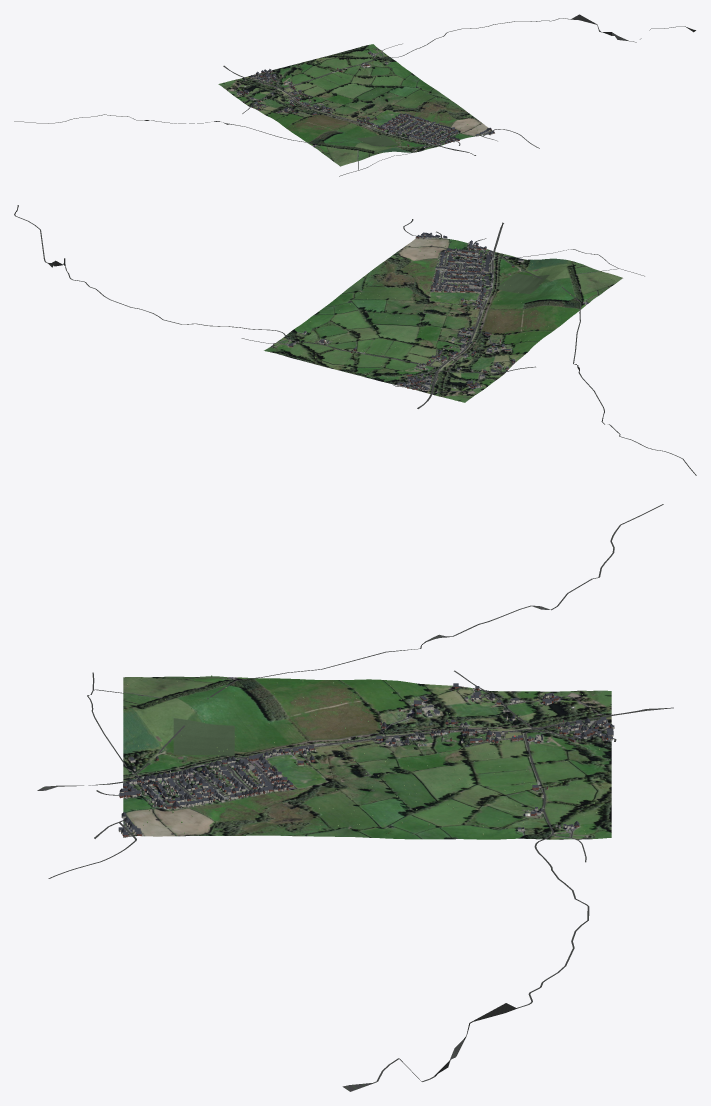
Rendered from howey-terrain.glb.
3 views of the same model, one above another, from view 1: azimuth 30°, elevation 25°; view 2: azimuth 150°, elevation 25°; view 3: azimuth 270°, elevation 25° (orthographic). The views are drawn at different scales.
Parts seen in each view (by area): view 1: Terrain_3D, Roads, Roofs, Buildings_OSM; view 2: Terrain_3D, Roads, Roofs, Buildings_OSM; view 3: Terrain_3D, Roofs, Roads, Buildings_OSM.
Boxes of the visible parts, bbox=[...] form: Terrain_3D: bbox=[218, 44, 494, 166]; Roads: bbox=[14, 14, 695, 176]; Roofs: bbox=[239, 51, 494, 146]; Buildings_OSM: bbox=[237, 53, 494, 151]; Terrain_3D: bbox=[264, 235, 622, 402]; Roads: bbox=[14, 205, 696, 475]; Roofs: bbox=[288, 232, 514, 389]; Buildings_OSM: bbox=[289, 234, 523, 390]; Terrain_3D: bbox=[123, 676, 611, 839]; Roofs: bbox=[118, 683, 614, 834]; Roads: bbox=[37, 504, 673, 1091]; Buildings_OSM: bbox=[118, 686, 614, 836].
Size of the model in its own units: 4278 by 179 by 1957.
Materials: 10 (5 with a texture image).
